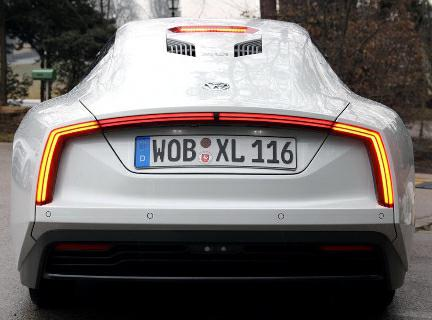大众-XL1: (6, 15, 419, 313)
